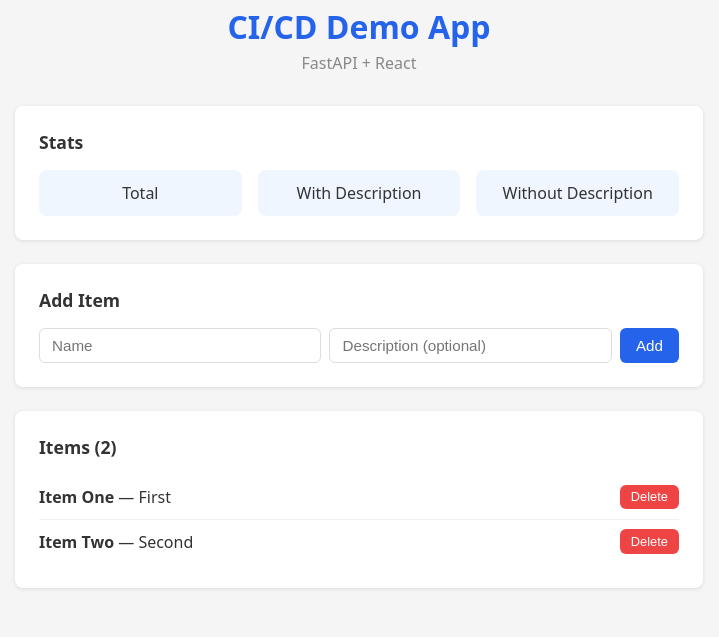
it: App › adds a new item
Check: the text "Item One" is shown, box 39,486 -> 114,508
Type "New Item" into the field with placeholder "Name" at (180, 346), box 39,328 -> 322,363
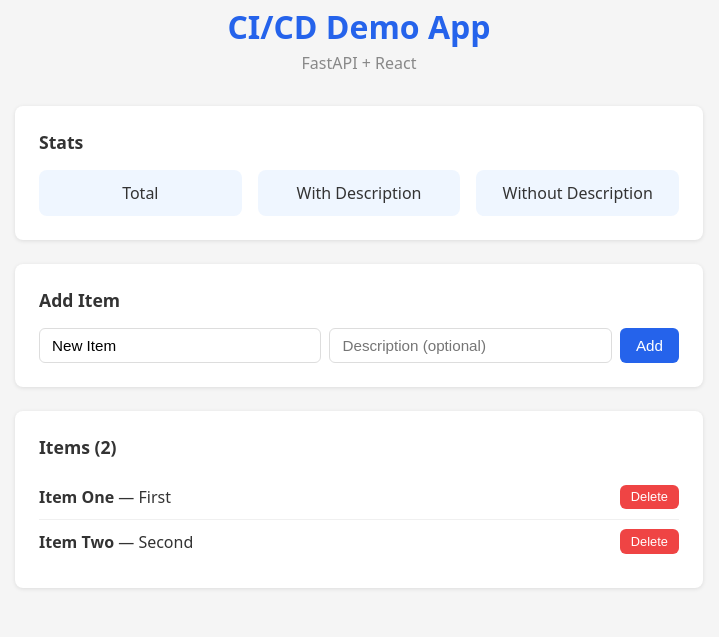
Click the button "Add" at (650, 346), box 620,328 -> 679,363
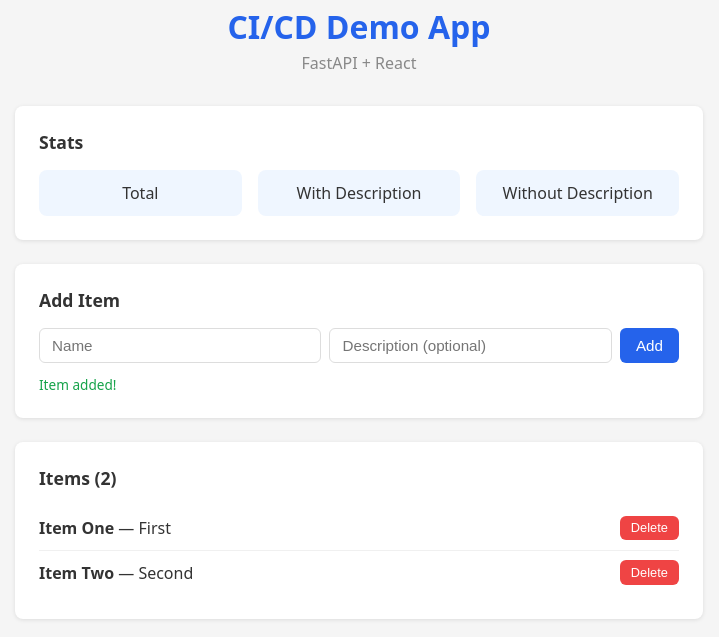
Check: the text "Item added!" is shown, box 39,375 -> 116,394
